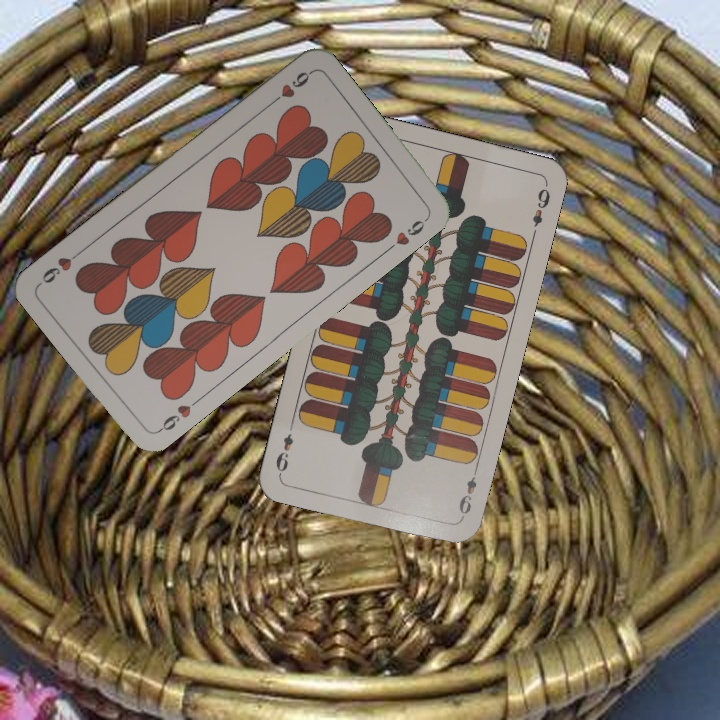E9: (454, 464, 481, 522)
H9: (264, 67, 315, 109), (153, 394, 203, 436)
